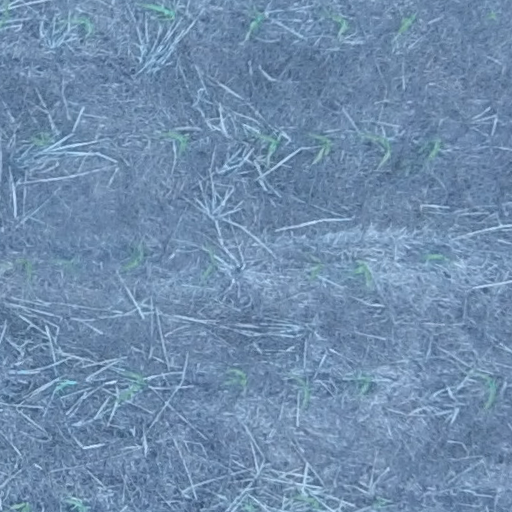planta: (356, 131, 391, 170), (465, 370, 497, 410), (113, 371, 146, 403), (252, 131, 281, 166), (139, 1, 175, 20), (162, 130, 189, 155), (61, 16, 93, 36), (312, 134, 331, 165), (292, 374, 310, 405), (395, 12, 417, 37), (352, 261, 373, 287), (201, 244, 216, 278), (290, 494, 321, 510), (327, 13, 350, 34), (122, 250, 145, 271), (353, 373, 371, 398), (224, 367, 247, 385), (14, 257, 32, 280), (309, 253, 325, 278), (246, 12, 264, 32), (30, 131, 51, 146), (427, 139, 441, 159), (421, 253, 448, 261)
